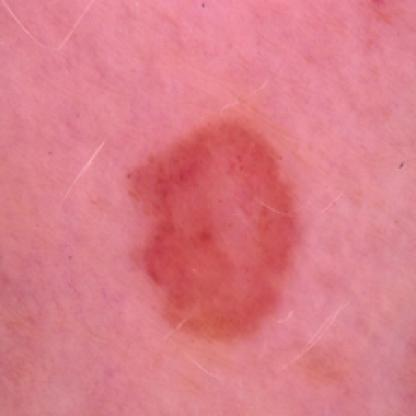benign: (119, 128, 314, 353)
